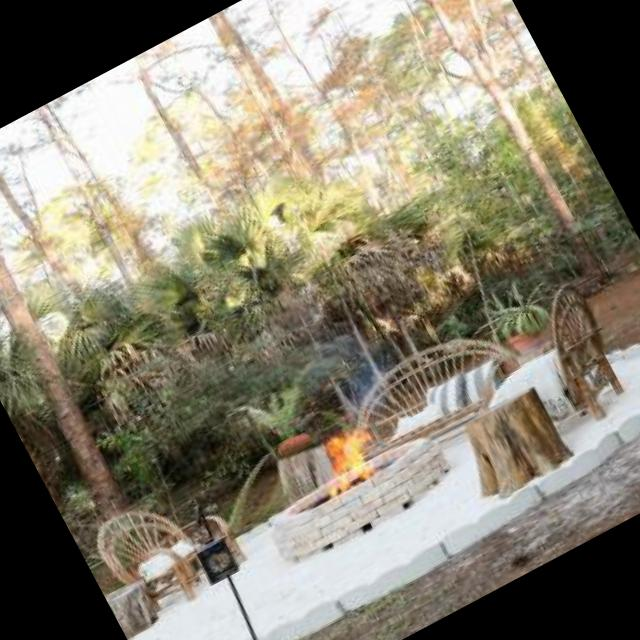fire: (304, 419, 388, 502)
